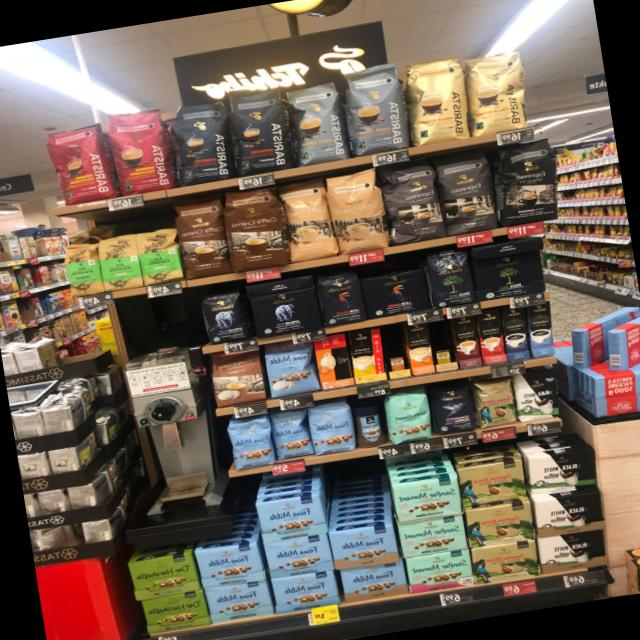AB Bohne: (199, 291, 250, 347)
AB Gemahlen: (251, 286, 324, 340)
Athiopien Bohne: (61, 238, 106, 300)
Athiopien Gemahlen: (96, 231, 144, 293), (136, 227, 183, 287)
BM Bohne: (424, 246, 478, 310)
BM Gemahlen: (472, 250, 546, 302)
BW Bohne: (512, 366, 566, 423)
BW Gemahlen: (526, 449, 601, 497), (532, 491, 606, 539), (538, 528, 610, 575)
Barista CB: (401, 54, 473, 146), (462, 48, 534, 137)
Barista CC: (341, 60, 412, 156), (287, 79, 350, 168)
Barista Espresso: (226, 84, 294, 178), (166, 96, 237, 186)
Barista Kolumbien: (43, 120, 113, 207), (107, 105, 172, 195)
C Fino Bohne: (429, 382, 478, 437)
CC Mild: (324, 167, 390, 256), (280, 175, 336, 264)
CC Vollmundig: (208, 349, 268, 408)
CC Vollmundig 36 Pads: (222, 184, 290, 272), (174, 197, 232, 280)
Colombia BB Bohne: (472, 378, 520, 430)
Colombia BB Gemahlen: (464, 500, 536, 550), (456, 459, 528, 507), (469, 539, 541, 585)
Espresso Aromatisch: (434, 150, 501, 237)
Espresso M Art: (379, 158, 445, 246)
Espresso S Art: (488, 134, 566, 228)
FM 36 Pads: (263, 342, 320, 398)
FM Bohne: (308, 403, 358, 457), (227, 416, 276, 470), (269, 409, 314, 461)
FM Gemahlen: (255, 493, 326, 542), (264, 532, 334, 580), (194, 542, 266, 588), (329, 524, 398, 571), (339, 558, 408, 604), (271, 570, 340, 614), (205, 580, 272, 624)
FM Instant: (351, 402, 388, 450)
Herzhatfe Mundig: (128, 551, 200, 600), (140, 589, 208, 636)
LG Bohne: (316, 268, 368, 328)
LG Gemahlen: (360, 266, 430, 320)
SM Bohne: (383, 388, 436, 447)
SM Gemahlen: (392, 476, 463, 524), (406, 548, 474, 595), (398, 514, 468, 558)
Simo CCMild: (350, 328, 386, 383)
Simo CCVollmundig bigpack: (405, 322, 435, 375)
Simo Es Brazil: (476, 308, 507, 364)
Simo Es Caramel: (451, 315, 482, 369)
Simo Es Kraft: (502, 307, 529, 361)
Simo Es Vanilla: (527, 301, 554, 357)
